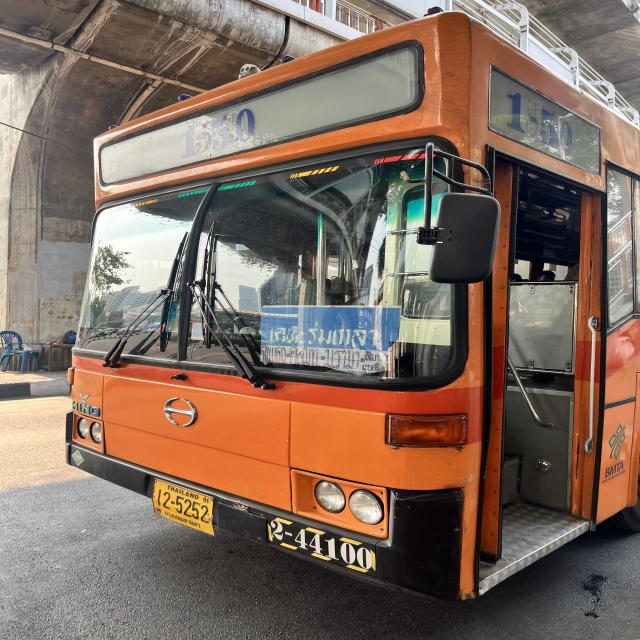BMTA-bus: (62, 11, 640, 604)
Bus-Line-Number: (168, 97, 260, 168)
Destination-Sign-Normal: (259, 304, 400, 386)
